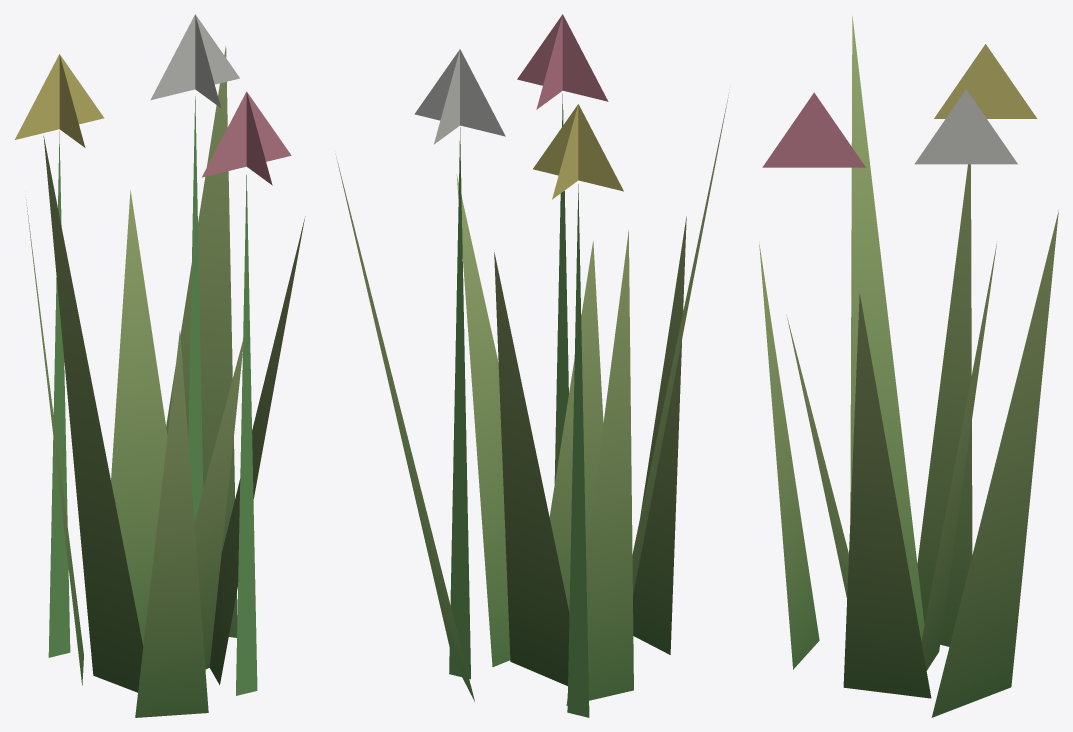
File: flowers.glb
The picture shows the model from 3 angles, left to right: view 1: azimuth 30°, elevation 25°; view 2: azimuth 150°, elevation 25°; view 3: azimuth 270°, elevation 25°; orthographic projection.
Visible parts, largest first — view 1: flowers; view 2: flowers; view 3: flowers.
Boxes of the visible parts, box(x1,y1,x2,y2) form: flowers: box(15, 14, 305, 717); flowers: box(335, 14, 729, 717); flowers: box(759, 16, 1058, 717).
Bounding box in the file's own units: 0.3176 × 0.6551 × 0.2888.
